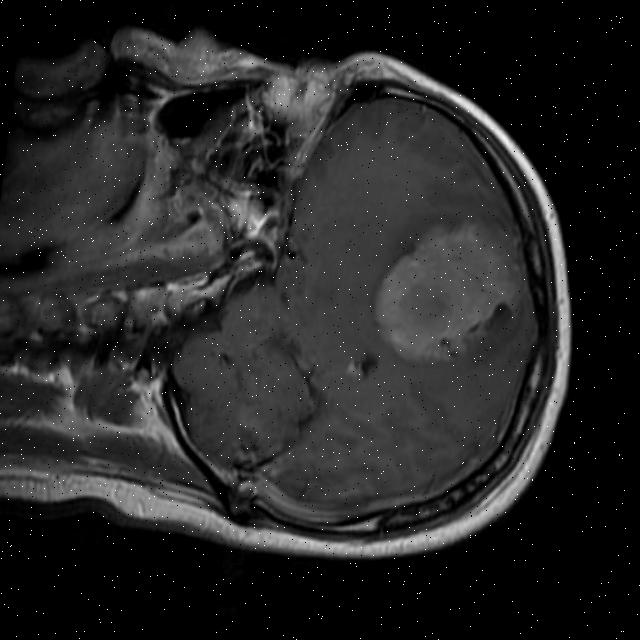Meningioma: (367, 209, 528, 371)
